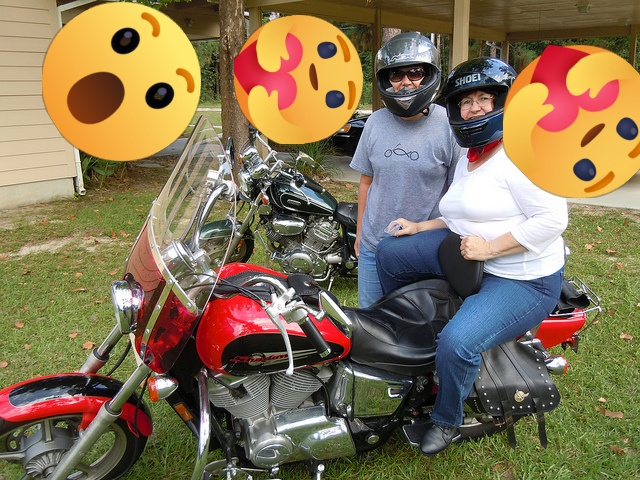care: (503, 45, 640, 198), (234, 15, 363, 144)
wow: (42, 2, 201, 161)
